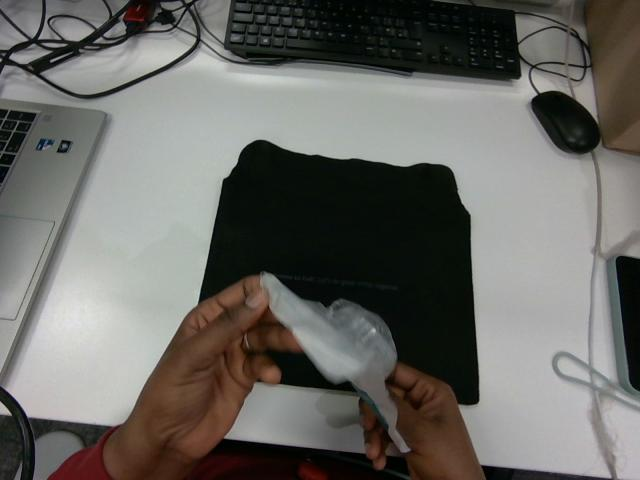gallipot: (261, 273, 409, 452)
